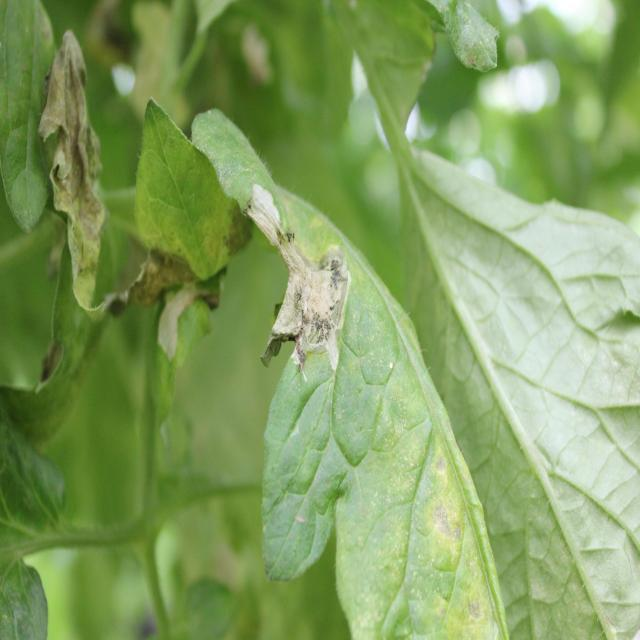Tuta absoluta: (244, 176, 359, 380)
